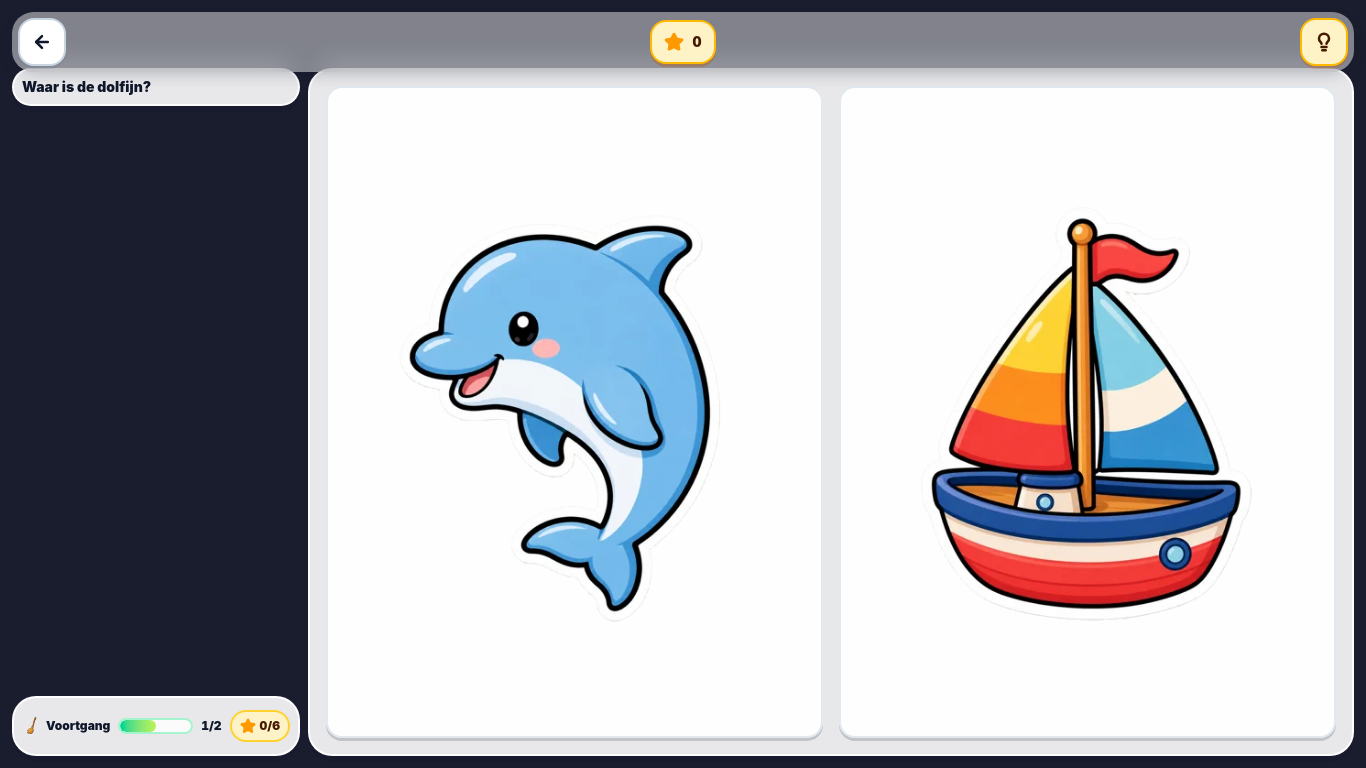
Scenario: WordChoiceScreen afronding en resultaten › herstart de ronde bij klikken op 'Opnieuw'
// Voltooi beide opdrachten (de quiz schakelt zelf door)
Step 1. Click the button named "dolfijn" → [574, 412], box [326, 86, 823, 738]
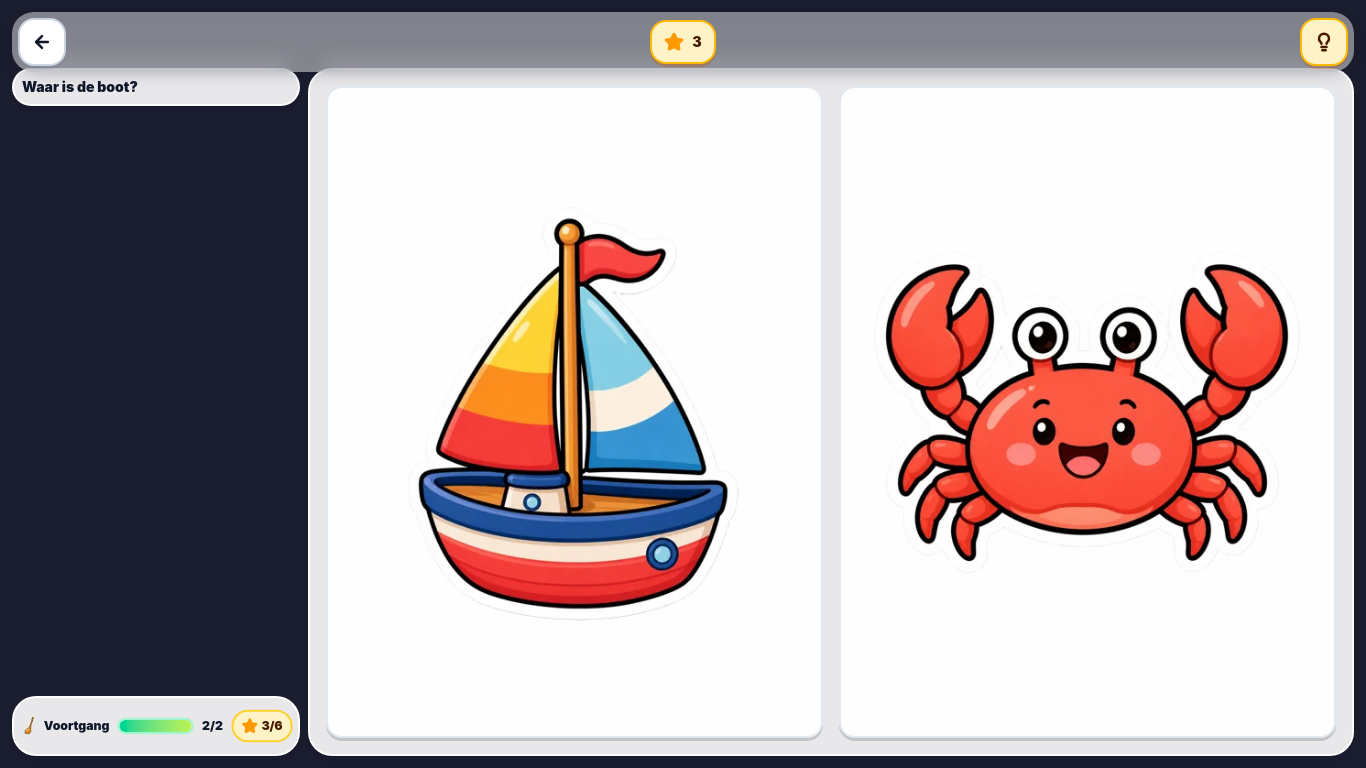
Check: the text "2/2" is shown, box [202, 720, 223, 732]
Step 2. Click the button named "boot" → [574, 412], box [326, 86, 823, 738]
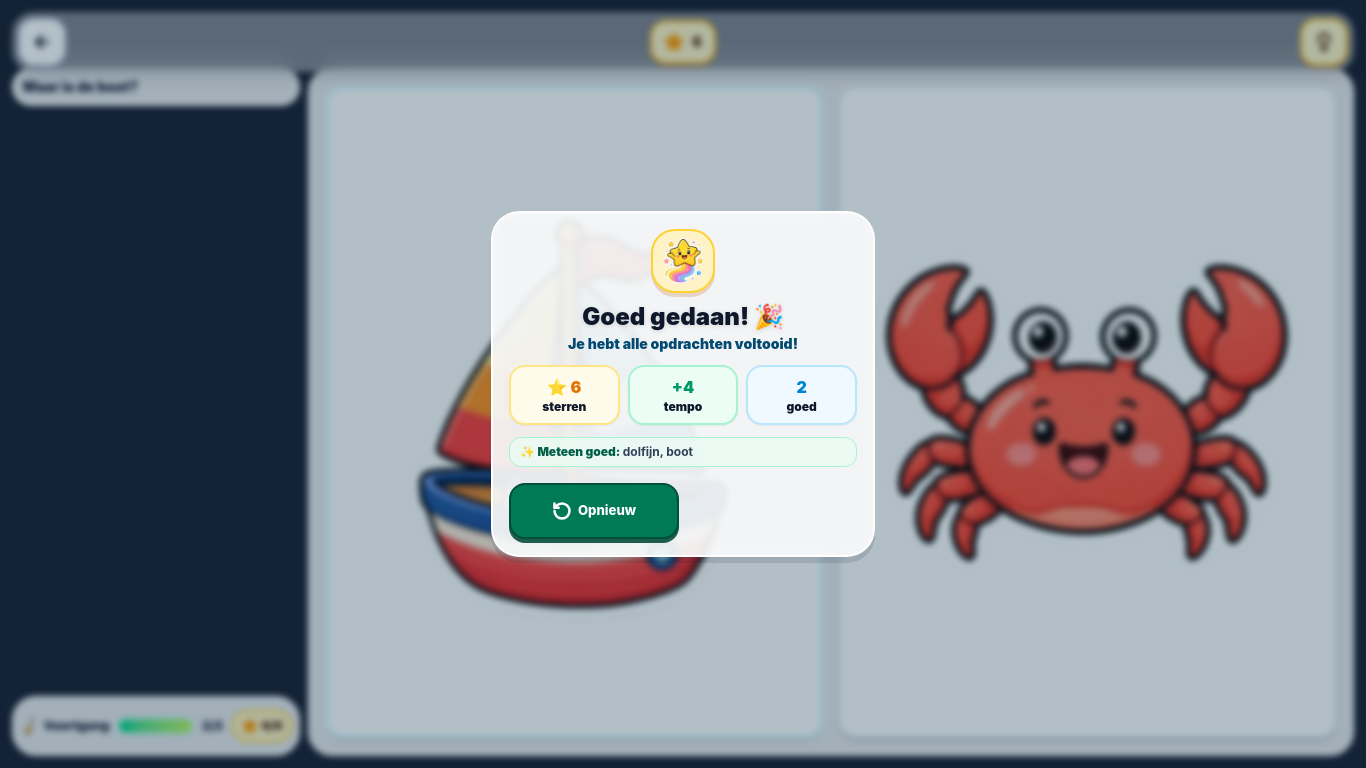
Check: the element with test id "word-choice-round-summary" is shown
// Klik opnieuw
Step 3. Click the button with test id "word-choice-summary-replay-button" → [594, 511], box [509, 483, 679, 539]
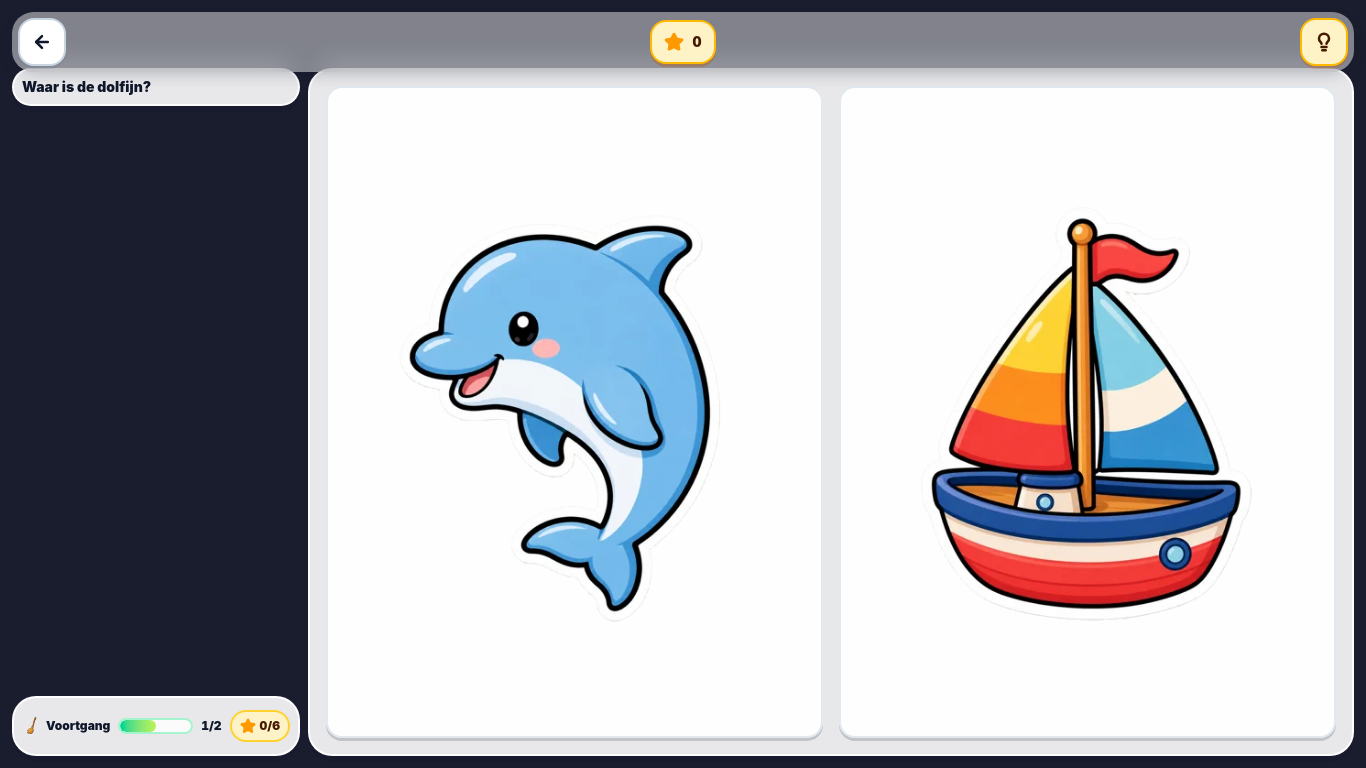
Check: the element with test id "word-choice-round-summary" is gone
Check: the text "Waar is de dolfijn?" is shown, box [22, 78, 151, 95]
